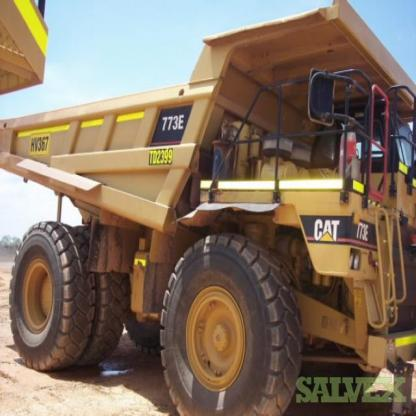dump_truck: (5, 10, 413, 408)
